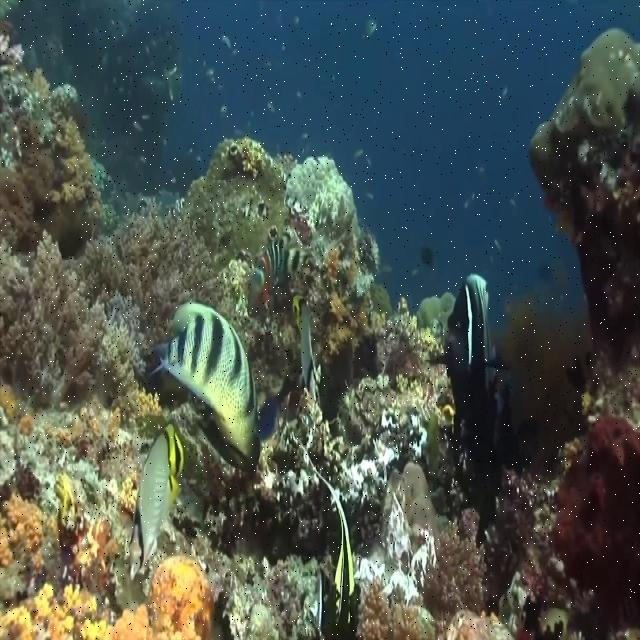fish: (142, 304, 294, 477), (425, 275, 511, 427), (126, 418, 184, 575)
